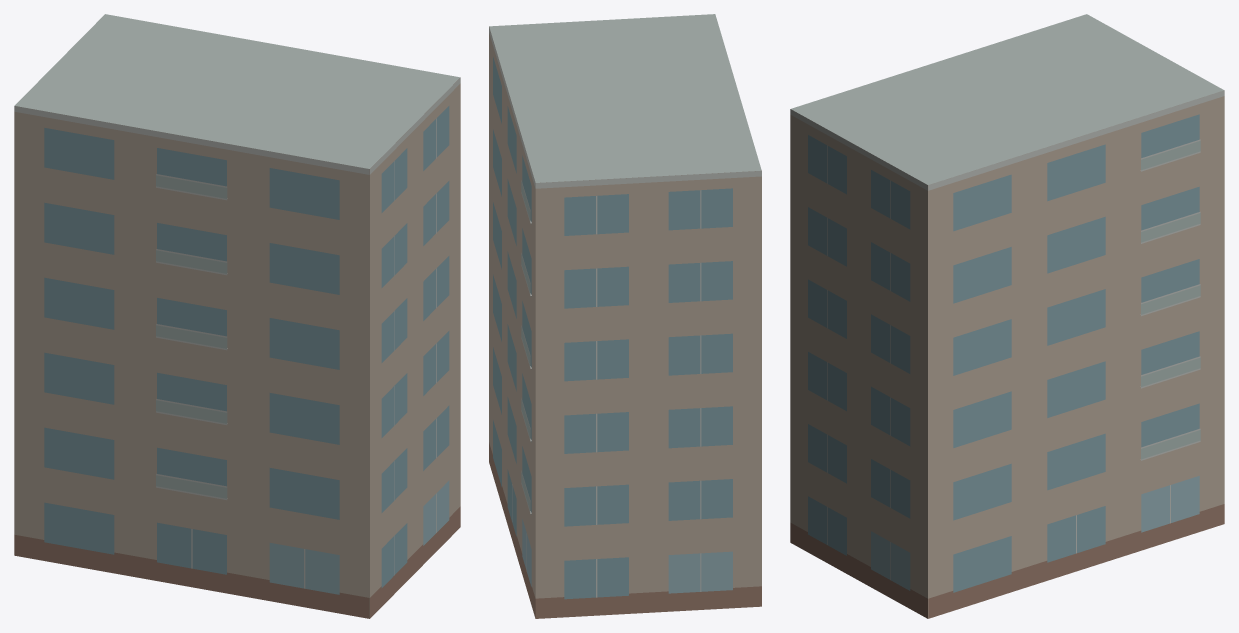
Rendered from survey-upis-32983748.glb.
3 views of the same model, side by side, from view 1: azimuth 30°, elevation 25°; view 2: azimuth 150°, elevation 25°; view 3: azimuth 270°, elevation 25° (orthographic). The views are drawn at different scales.
Visible parts, largest first — view 1: survey-upis-32983748.tmp; view 2: survey-upis-32983748.tmp; view 3: survey-upis-32983748.tmp.
Part boxes in pixels (bbox=[...]): survey-upis-32983748.tmp: bbox=[14, 14, 460, 618]; survey-upis-32983748.tmp: bbox=[489, 14, 761, 618]; survey-upis-32983748.tmp: bbox=[790, 14, 1224, 618].
Size of the model in its own units: 15.67 by 18.5 by 16.79.
